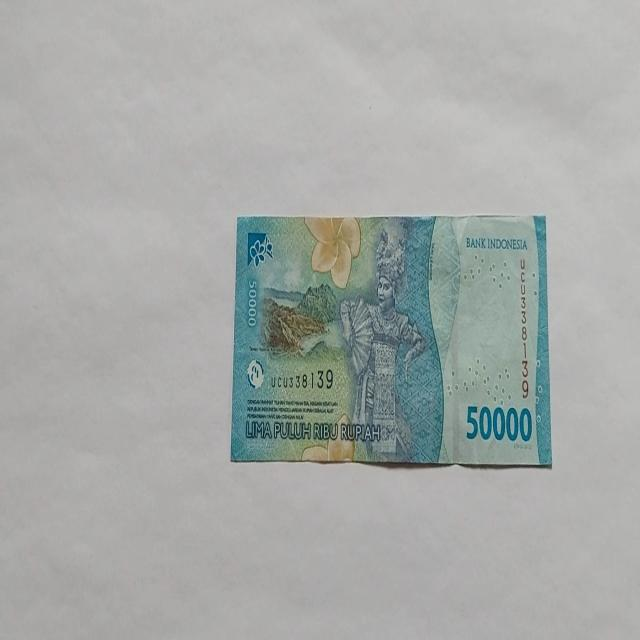lima puluh ribu rupiah: (230, 213, 552, 468)
